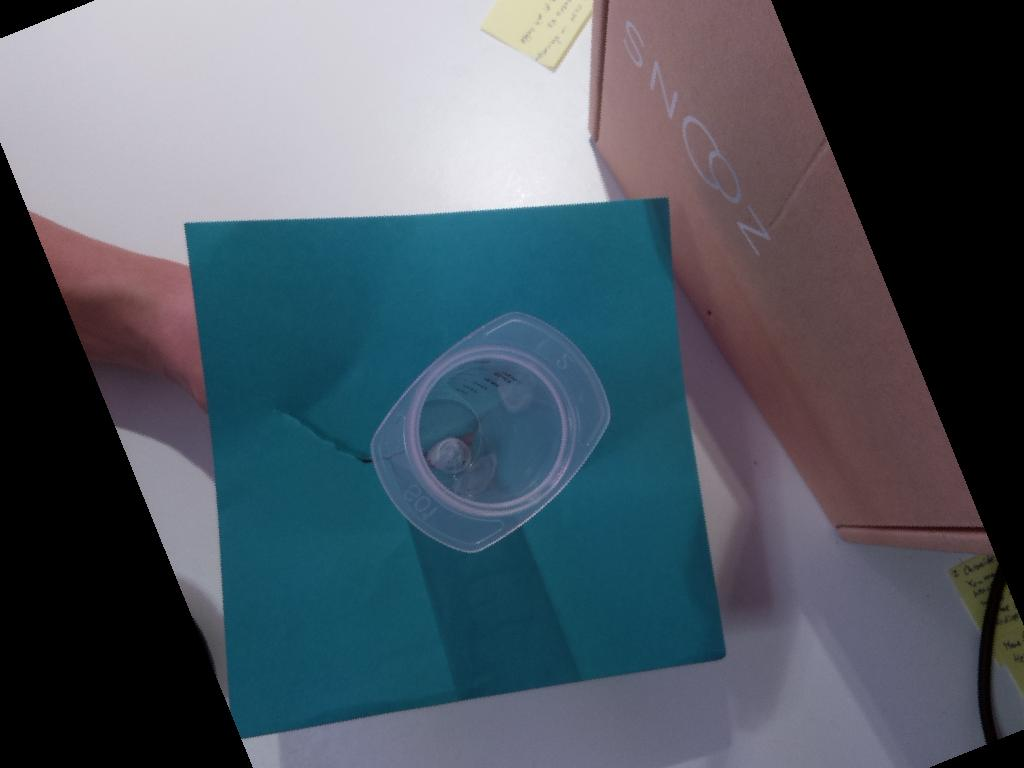clean: (372, 310, 610, 555)
